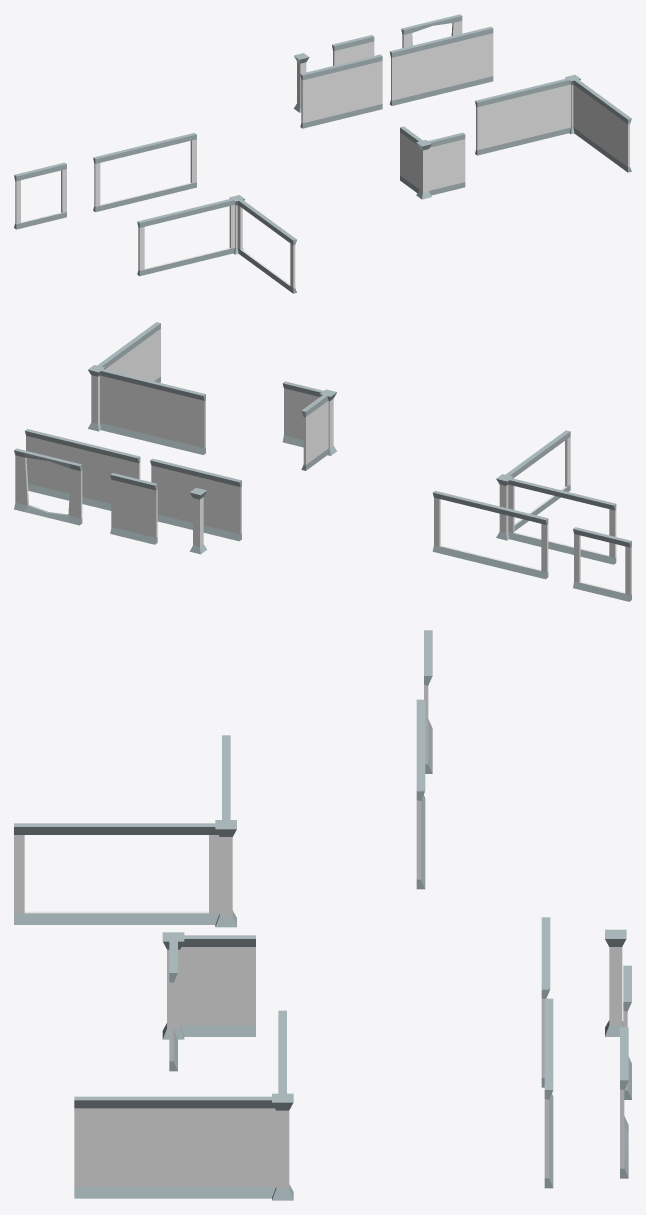
The model's file is OOModularWalls (1).fbx.
The picture shows the model from 3 angles, top to bottom: view 1: azimuth 30°, elevation 25°; view 2: azimuth 150°, elevation 25°; view 3: azimuth 270°, elevation 25°; orthographic projection. The views are drawn at different scales.
Visible parts, largest first — view 1: Cube.008, Cube.016, Cube.014, Cube.004, Cube.007, Cube.009, Cube.015, Cube.017, Cube.005, Plane.005; view 2: Cube.008, Cube.016, Cube.014, Cube.007, Cube.004, Cube.017, Cube.009, Cube.005, Cube.015, Plane.005; view 3: Cube.008, Cube.004, Cube.007, Cube.016, Cube.009, Plane.005, Cube.005, Cube.014, Cube.015.
Boxes of the visible parts, left/top/right/bottom form: Cube.008: left=475, top=74, right=631, bottom=172; Cube.016: left=389, top=26, right=493, bottom=105; Cube.014: left=300, top=54, right=382, bottom=128; Cube.004: left=400, top=126, right=465, bottom=199; Cube.007: left=137, top=195, right=296, bottom=293; Cube.009: left=93, top=133, right=196, bottom=212; Cube.015: left=14, top=162, right=66, bottom=229; Cube.017: left=332, top=35, right=374, bottom=65; Cube.005: left=401, top=14, right=462, bottom=47; Plane.005: left=294, top=53, right=309, bottom=112; Cube.008: left=88, top=322, right=205, bottom=454; Cube.016: left=25, top=429, right=140, bottom=510; Cube.014: left=150, top=458, right=241, bottom=541; Cube.007: left=496, top=430, right=616, bottom=564; Cube.004: left=282, top=381, right=336, bottom=470; Cube.017: left=110, top=473, right=157, bottom=544; Cube.009: left=432, top=490, right=548, bottom=579; Cube.005: left=14, top=448, right=82, bottom=525; Cube.015: left=573, top=527, right=631, bottom=601; Plane.005: left=189, top=488, right=206, bottom=554; Cube.008: left=74, top=1010, right=293, bottom=1200; Cube.004: left=162, top=932, right=255, bottom=1071; Cube.007: left=14, top=735, right=236, bottom=927; Cube.016: left=544, top=998, right=553, bottom=1188; Cube.009: left=416, top=699, right=425, bottom=889; Plane.005: left=605, top=929, right=626, bottom=1036; Cube.005: left=620, top=1027, right=628, bottom=1178; Cube.014: left=541, top=917, right=550, bottom=1087; Cube.015: left=424, top=630, right=432, bottom=773.
Size of the model in its own units: 258 by 36.03 by 143.
Materials: 1 (1 with a texture image).
